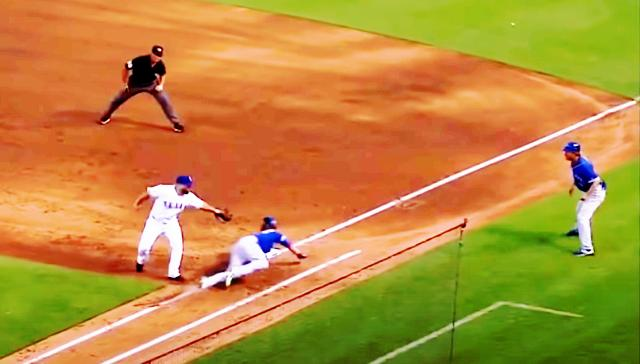jatuh: (195, 211, 312, 295)
